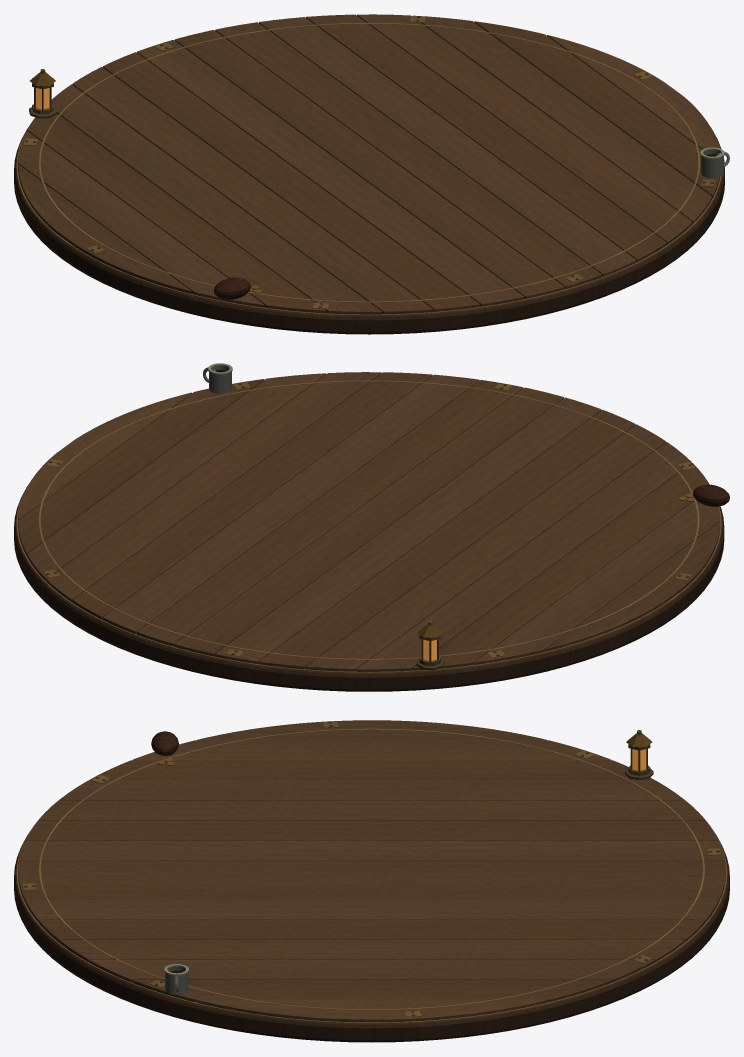
The model's file is copper-lantern-table.glb.
The picture shows the model from 3 angles, top to bottom: view 1: azimuth 30°, elevation 25°; view 2: azimuth 150°, elevation 25°; view 3: azimuth 270°, elevation 25°; orthographic projection.
Visible parts, largest first — view 1: copper-table-wood, copper-table-metal; view 2: copper-table-wood, copper-table-metal; view 3: copper-table-wood, copper-table-metal.
Part boxes in pixels (x1,y1,x2,y2): copper-table-wood: [14, 14, 724, 334]; copper-table-metal: [16, 16, 729, 316]; copper-table-wood: [14, 370, 729, 691]; copper-table-metal: [16, 363, 721, 673]; copper-table-wood: [14, 720, 729, 1042]; copper-table-metal: [16, 721, 727, 1023].
Size of the model in its own units: 30.8 by 3.16 by 30.8.
3 materials, 1 textured.
